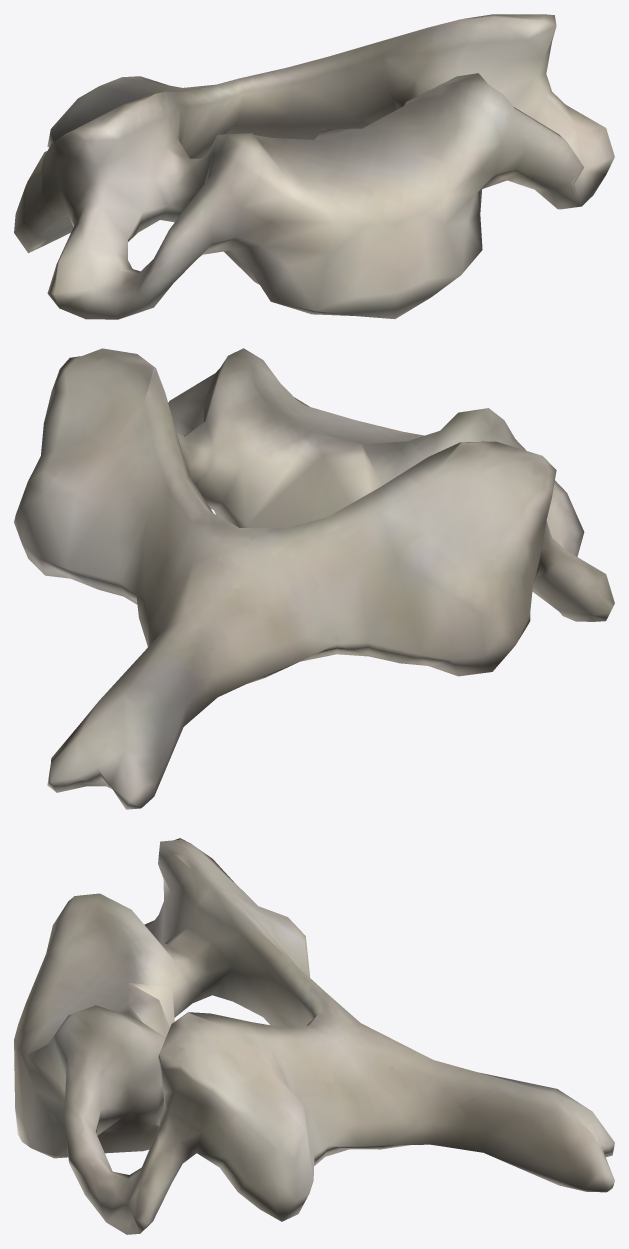
3 views of the same model, one above another, from view 1: azimuth 30°, elevation 25°; view 2: azimuth 150°, elevation 25°; view 3: azimuth 270°, elevation 25° (orthographic). The views are drawn at different scales.
Visible parts, largest first — view 1: C5_vertebra; view 2: C5_vertebra; view 3: C5_vertebra.
Boxes of the visible parts, left/top/right/bottom form: C5_vertebra: left=14, top=14, right=614, bottom=319; C5_vertebra: left=14, top=348, right=614, bottom=809; C5_vertebra: left=14, top=838, right=614, bottom=1234.
Bounding box in the file's own units: 0.0573 × 0.0234 × 0.0541.
1 material, 1 textured.
